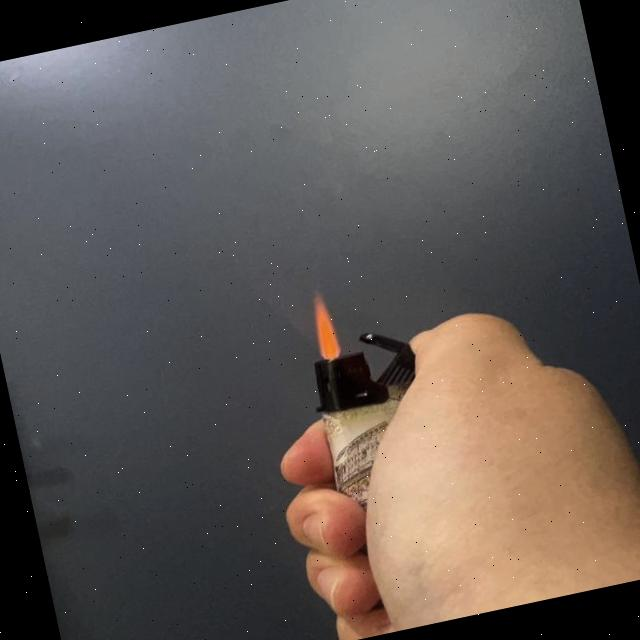fire: (302, 285, 346, 362)
